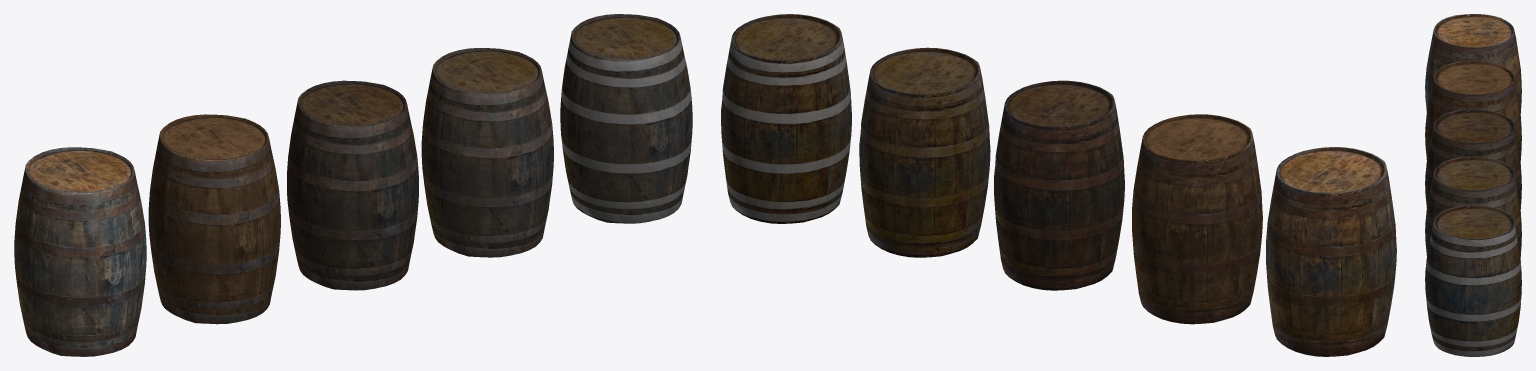
Rendered from old_bourbon_barrels.glb.
The picture shows the model from 3 angles, left to right: view 1: azimuth 30°, elevation 25°; view 2: azimuth 150°, elevation 25°; view 3: azimuth 270°, elevation 25°; orthographic projection. The views are drawn at different scales.
Parts seen in each view (by area): view 1: Bourbon Barrel Type A 05_4, Bourbon Barrel Type A 02_1, Bourbon Barrel Type A 01_0, Bourbon Barrel Type A 04_3, Bourbon Barrel Type A 03_2; view 2: Bourbon Barrel Type A 04_3, Bourbon Barrel Type A 03_2, Bourbon Barrel Type A 02_1, Bourbon Barrel Type A 01_0, Bourbon Barrel Type A 05_4; view 3: Bourbon Barrel Type A 05_4, Bourbon Barrel Type A 04_3, Bourbon Barrel Type A 02_1, Bourbon Barrel Type A 03_2, Bourbon Barrel Type A 01_0.
Part boxes in pixels (bbox=[...]): Bourbon Barrel Type A 05_4: bbox=[560, 14, 692, 223]; Bourbon Barrel Type A 02_1: bbox=[148, 114, 280, 324]; Bourbon Barrel Type A 01_0: bbox=[14, 147, 146, 356]; Bourbon Barrel Type A 04_3: bbox=[421, 48, 553, 257]; Bourbon Barrel Type A 03_2: bbox=[287, 80, 418, 290]; Bourbon Barrel Type A 04_3: bbox=[859, 47, 990, 257]; Bourbon Barrel Type A 03_2: bbox=[994, 80, 1124, 290]; Bourbon Barrel Type A 02_1: bbox=[1132, 114, 1262, 324]; Bourbon Barrel Type A 01_0: bbox=[1266, 147, 1396, 356]; Bourbon Barrel Type A 05_4: bbox=[721, 14, 851, 223]; Bourbon Barrel Type A 05_4: bbox=[1425, 205, 1521, 356]; Bourbon Barrel Type A 04_3: bbox=[1425, 157, 1521, 258]; Bourbon Barrel Type A 02_1: bbox=[1425, 61, 1521, 161]; Bourbon Barrel Type A 03_2: bbox=[1425, 109, 1521, 209]; Bourbon Barrel Type A 01_0: bbox=[1425, 14, 1521, 113].
Bounding box in the file's own units: 3.85 × 0.9243 × 0.6797.
5 materials, 5 textured.
